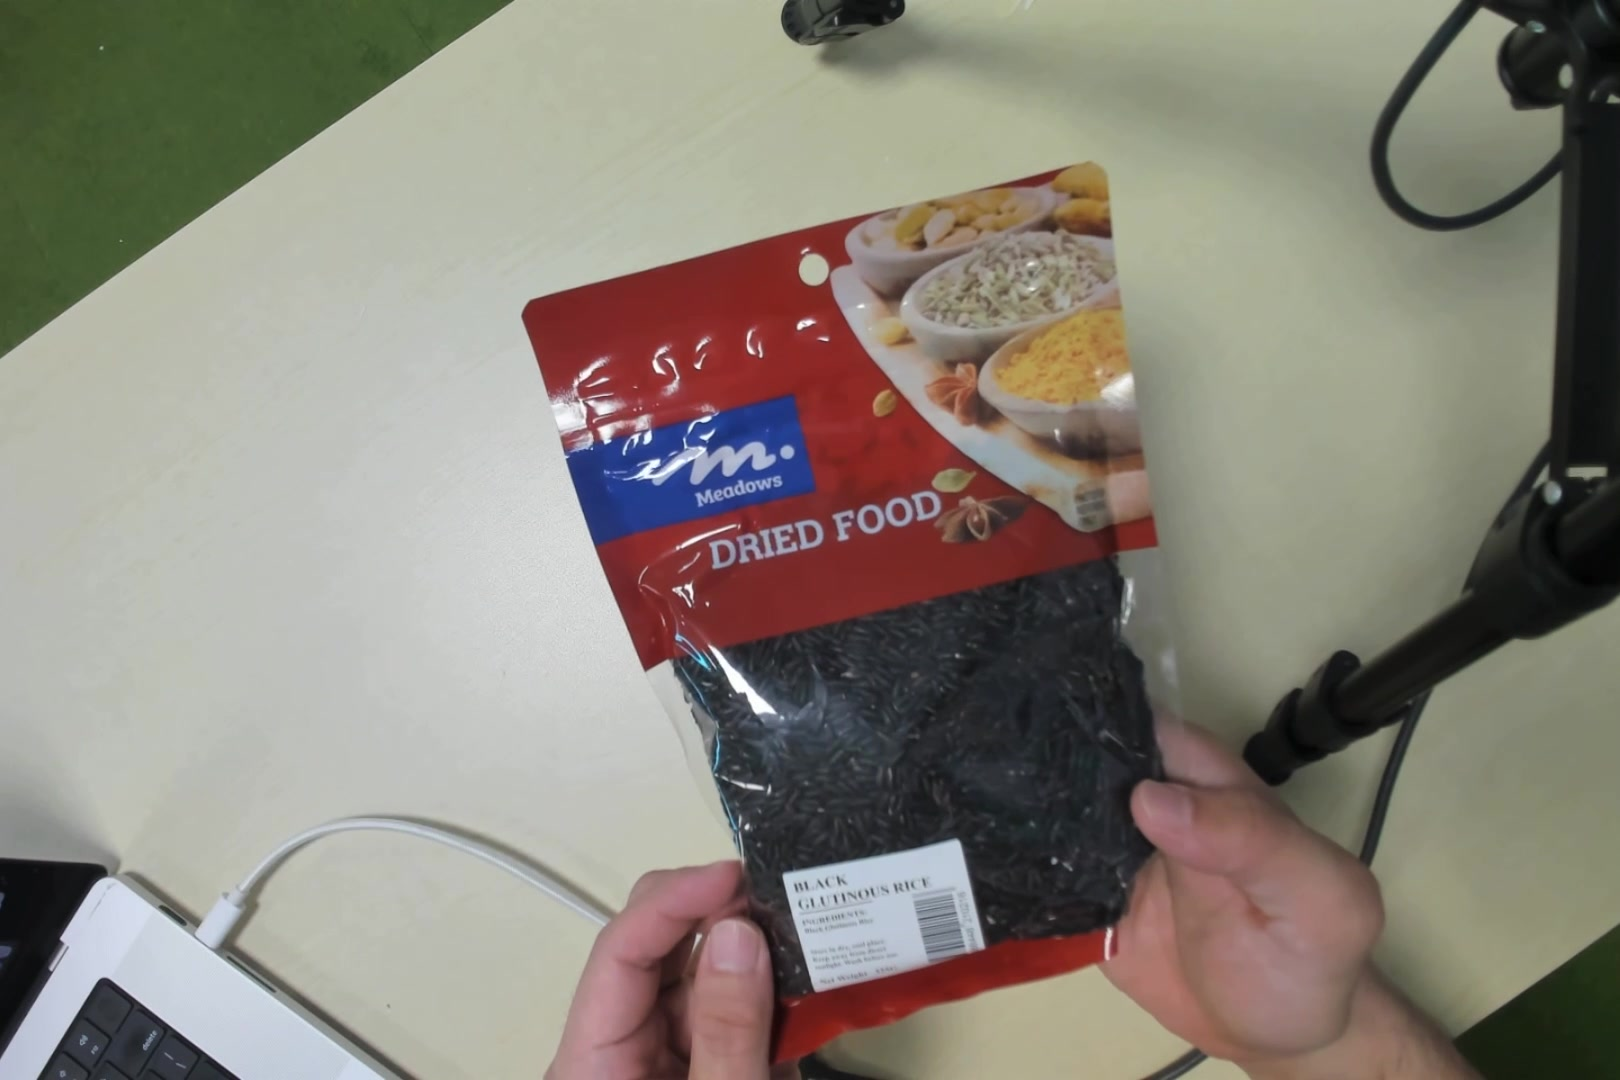OtherDriedFood_100-199g_NonHalal_NonHealthy: (614, 221, 1176, 1010)
